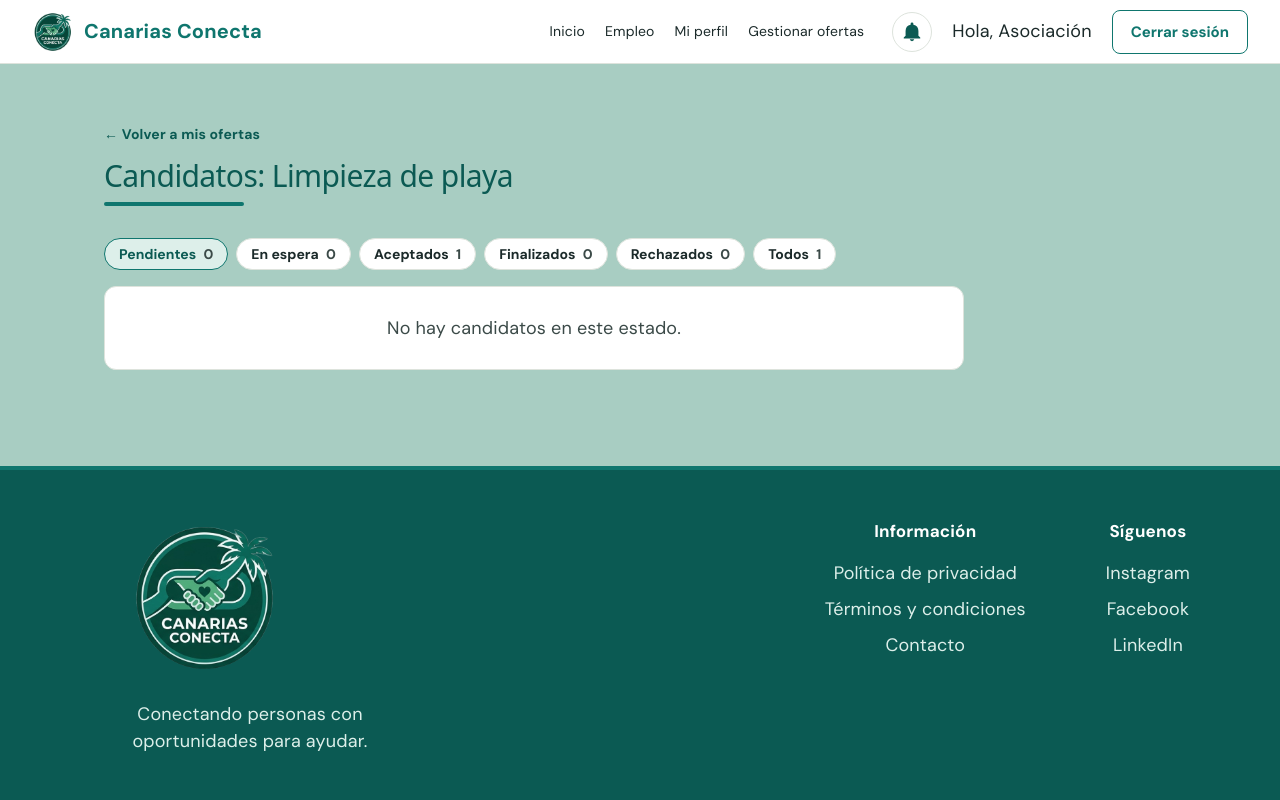
Test: Candidatos › confirma la participación con las horas previstas editadas
Click the tab "Aceptados 1" at {"x": 418, "y": 254}, box [359,238,476,270]
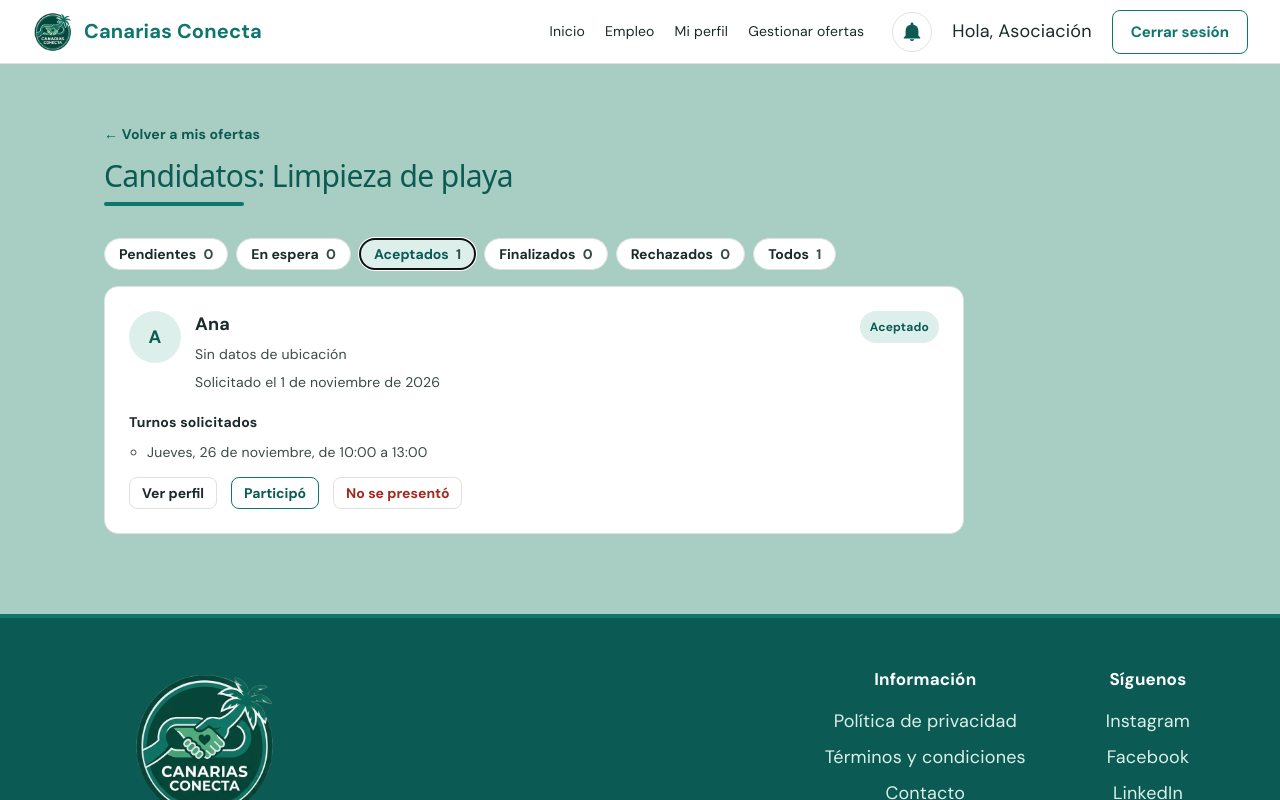
Click the button "Participó" at {"x": 275, "y": 493}, box [231,477,319,509]
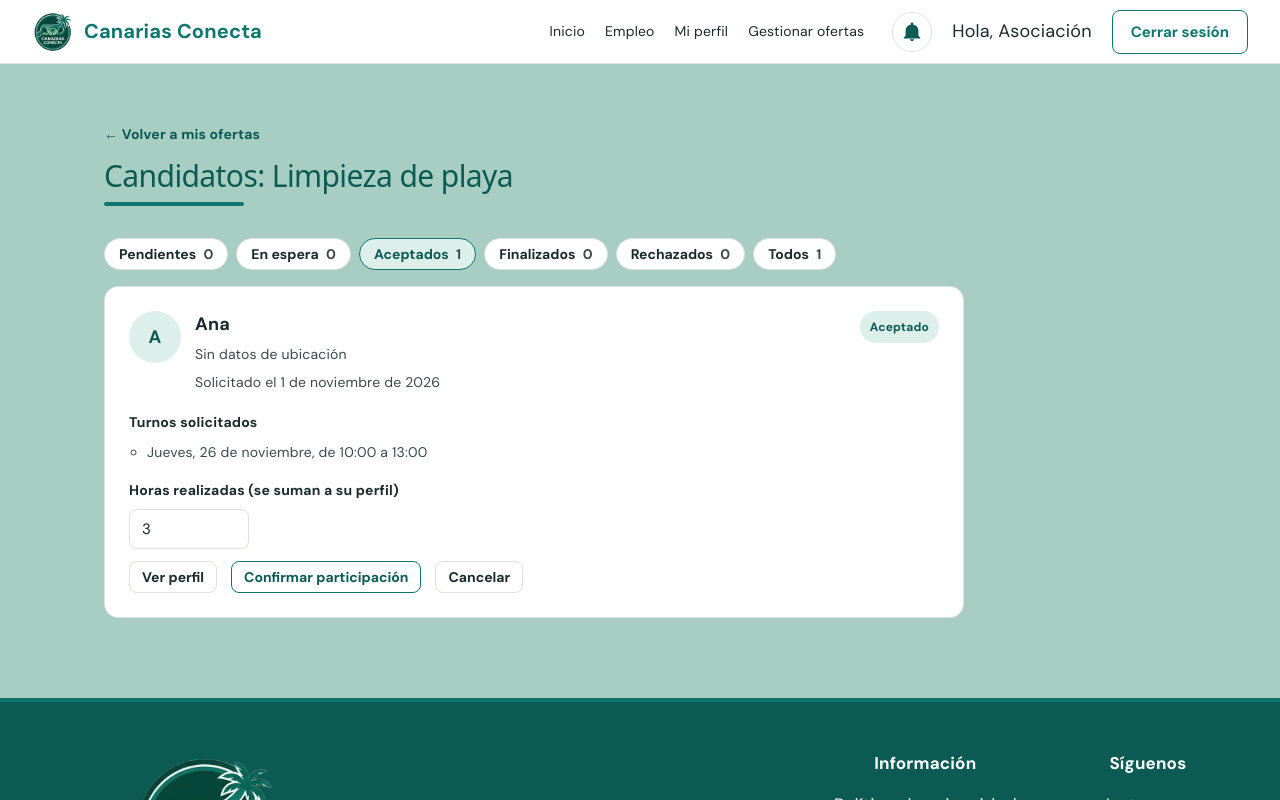
Now the number field labelled "Horas realizadas (se suman a su perfil)" holds "3"
Replace the text in the number field labelled "Horas realizadas (se suman a su perfil)" with "2.5" at {"x": 189, "y": 529}, box [129,509,249,549]
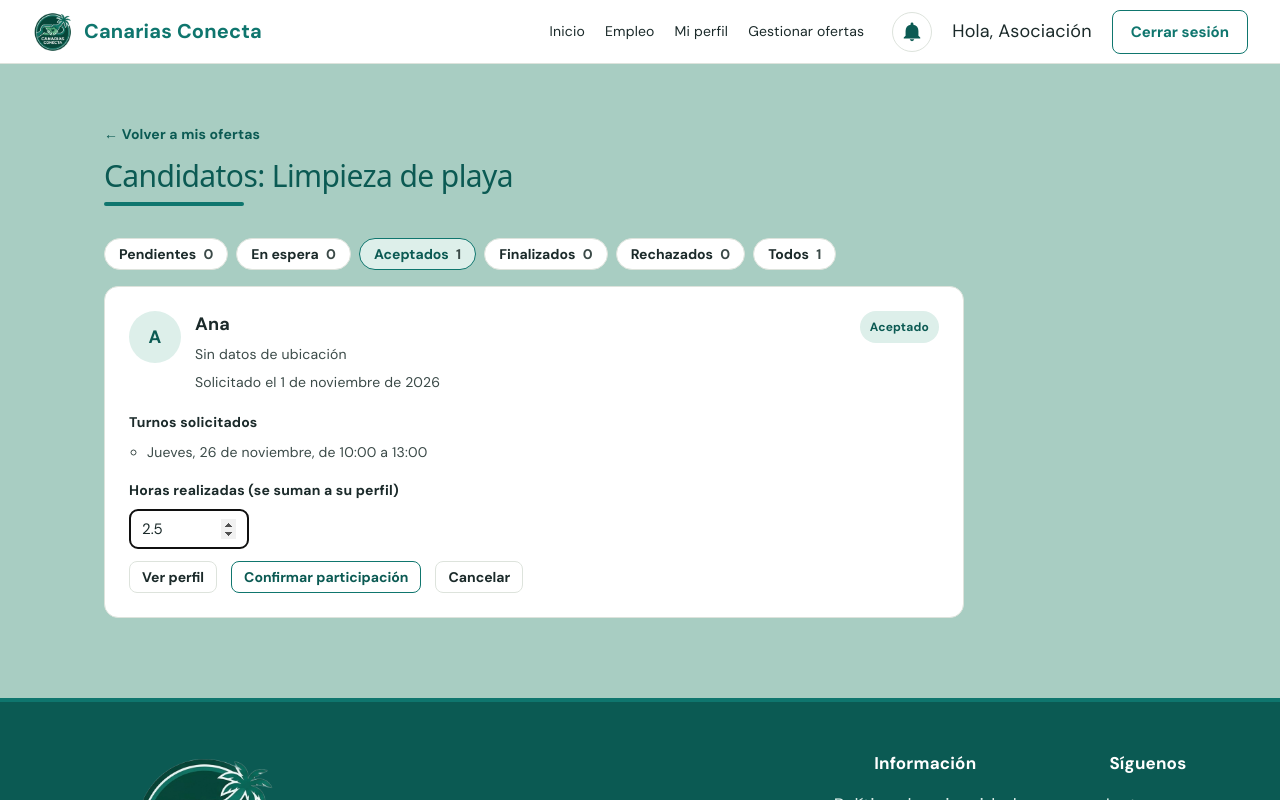
Click the button "Confirmar participación" at {"x": 326, "y": 577}, box [231,561,422,593]
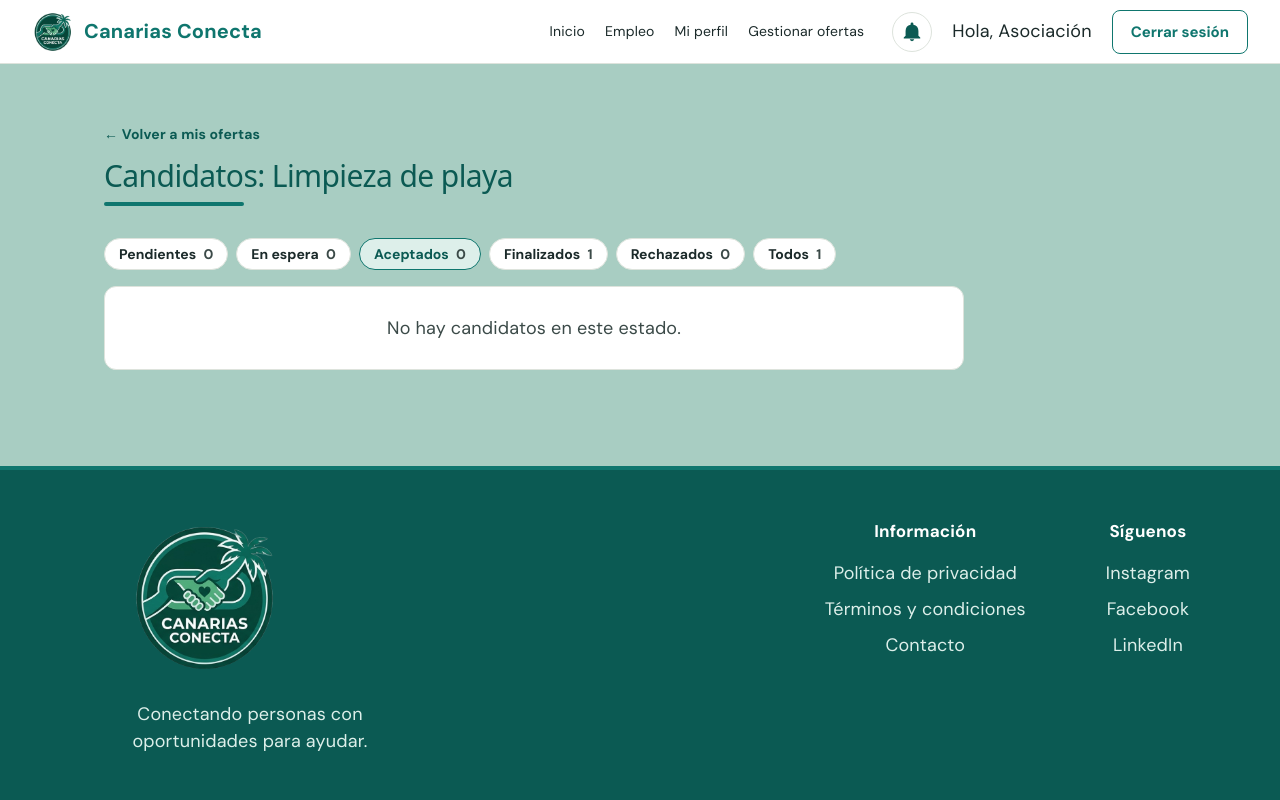
Click the tab "Finalizados 1" at {"x": 548, "y": 254}, box [489,238,608,270]
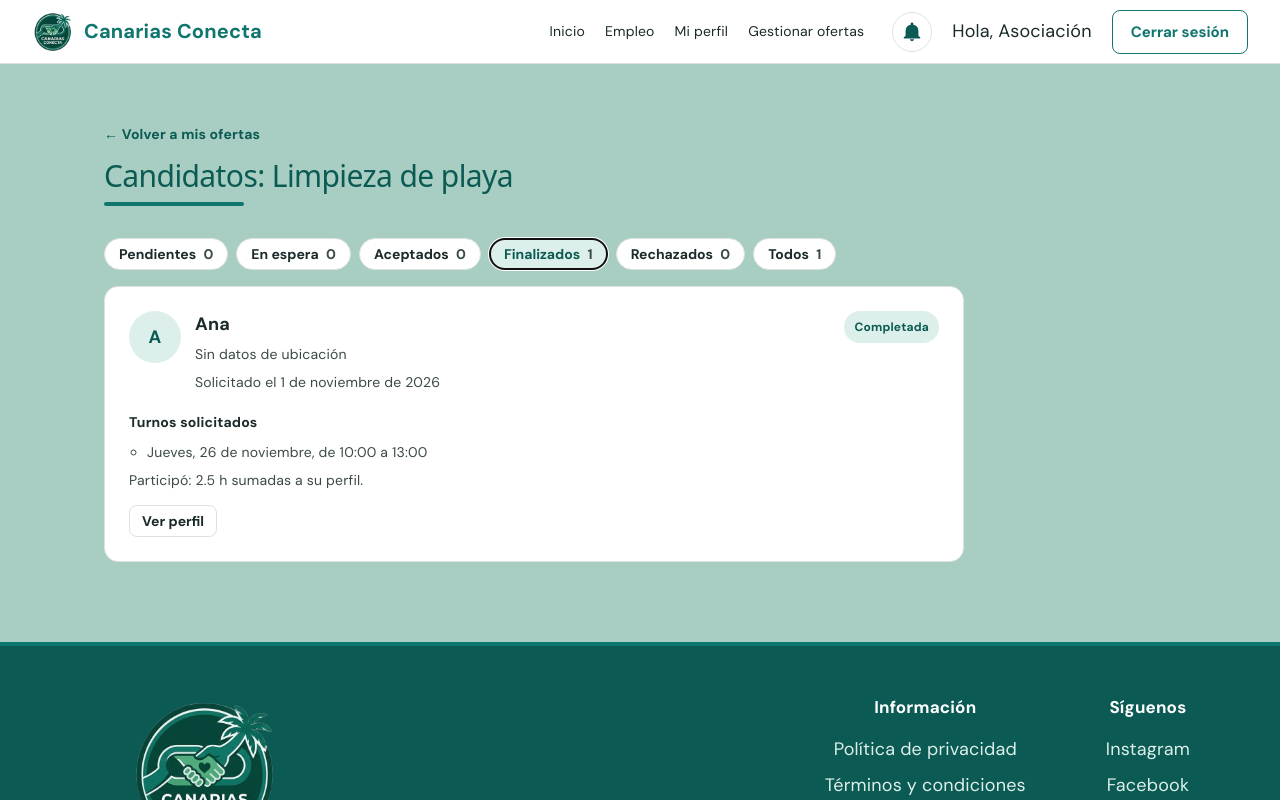
Now the text "Participó: 2.5 h sumadas a su perfil." is shown, box [129,471,363,489]
